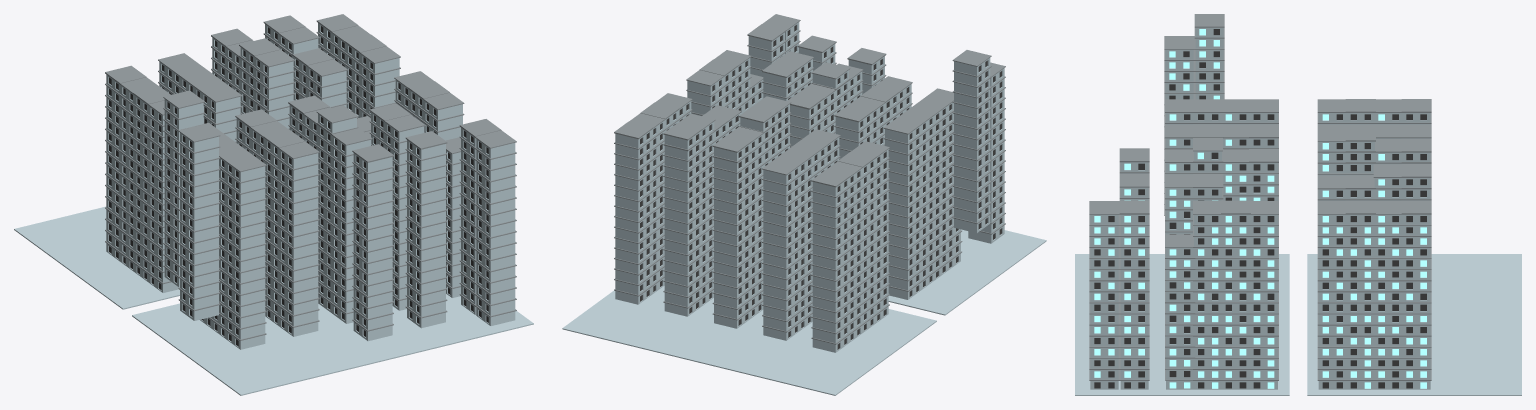
File: mockup-city_01.fbx
3 views of the same model, side by side, from view 1: azimuth 30°, elevation 25°; view 2: azimuth 150°, elevation 25°; view 3: azimuth 270°, elevation 25° (orthographic). The views are drawn at different scales.
Parts seen in each view (by area): view 1: City; view 2: City; view 3: City.
Part boxes in pixels (x1,y1,x2,y2): City: (14,14,533,395); City: (562,14,1046,395); City: (1075,14,1521,395).
Size of what is drawn, in the model's own units: 11089 by 8775 by 14787.
